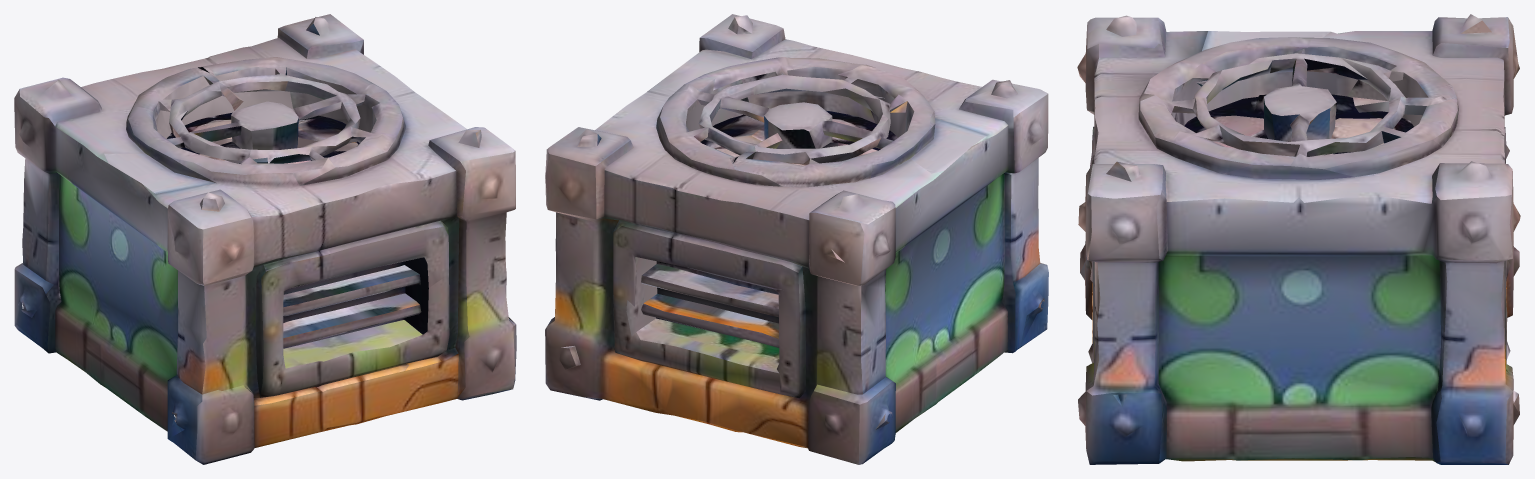
File: vent.glb
3 renders of one model, left to right at view 1: azimuth 30°, elevation 25°; view 2: azimuth 150°, elevation 25°; view 3: azimuth 270°, elevation 25°, orthographic. The views are drawn at different scales.
Parts seen in each view (by area): view 1: vent_s41; view 2: vent_s41; view 3: vent_s41.
Boxes of the visible parts, left/top/right/bottom form: vent_s41: left=14, top=14, right=516, bottom=464; vent_s41: left=545, top=14, right=1048, bottom=464; vent_s41: left=1077, top=14, right=1520, bottom=464.
Bounding box in the file's own units: 1 × 0.7206 × 0.9986.
1 material, 1 textured.
